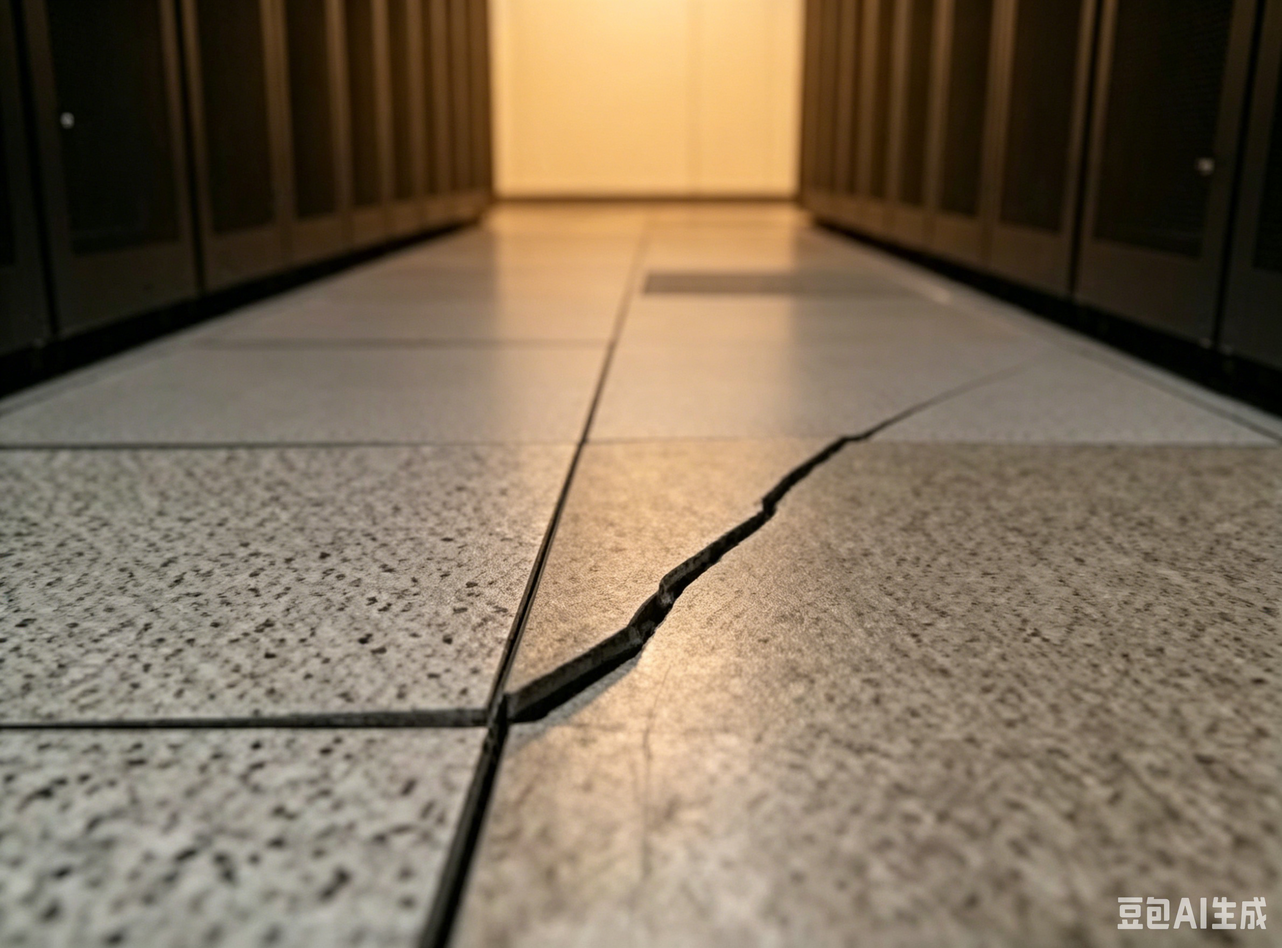floor_defect: (9, 690, 515, 761), (508, 560, 687, 737), (426, 768, 520, 948), (661, 501, 806, 596), (756, 438, 876, 498), (857, 398, 938, 435), (929, 371, 1017, 397)
